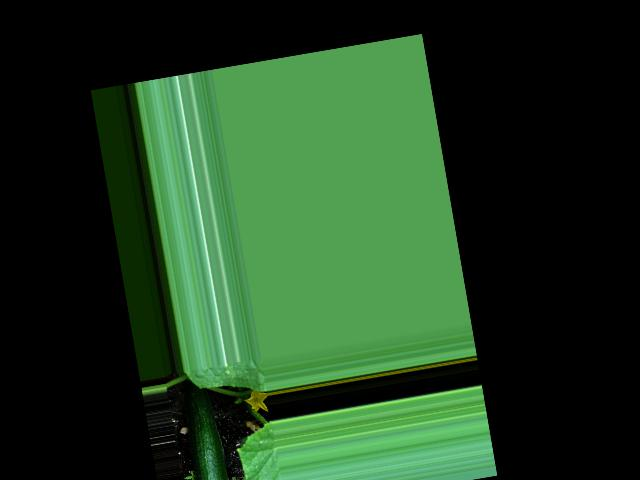cucumber: (178, 379, 233, 480)
